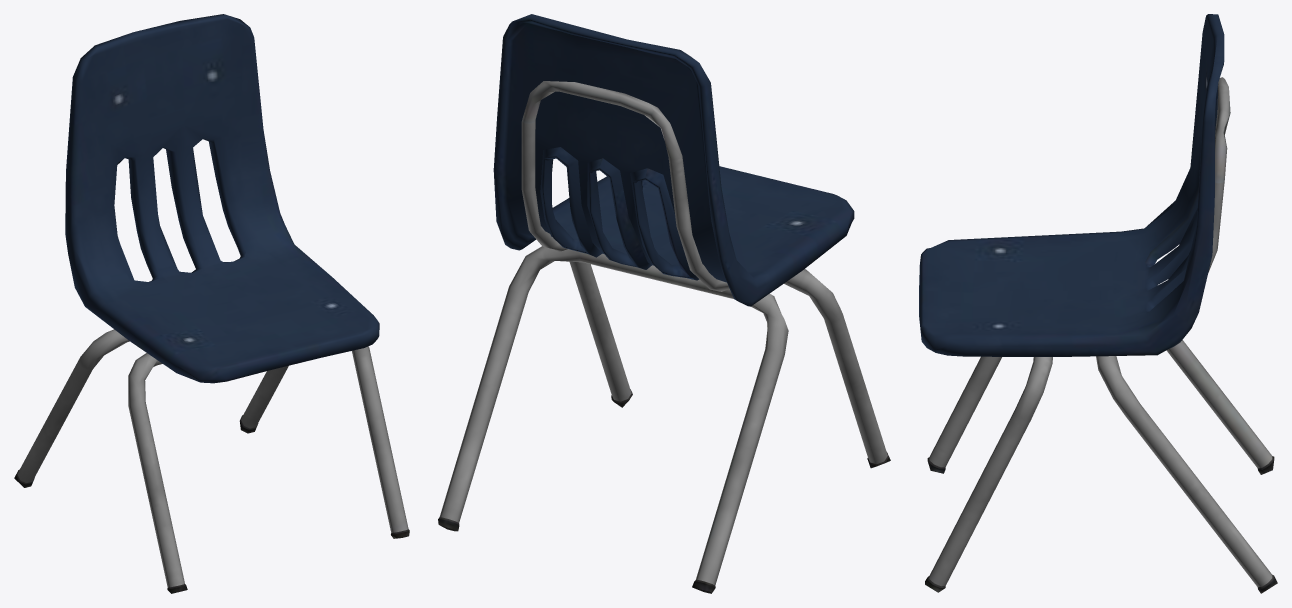
File: chair_lod1.glb
3 views of the same model, side by side, from view 1: azimuth 30°, elevation 25°; view 2: azimuth 150°, elevation 25°; view 3: azimuth 270°, elevation 25° (orthographic). The views are drawn at different scales.
Bounding box in the file's own units: 0.5658 × 1.01 × 0.673.
Materials: 1 (1 with a texture image).
